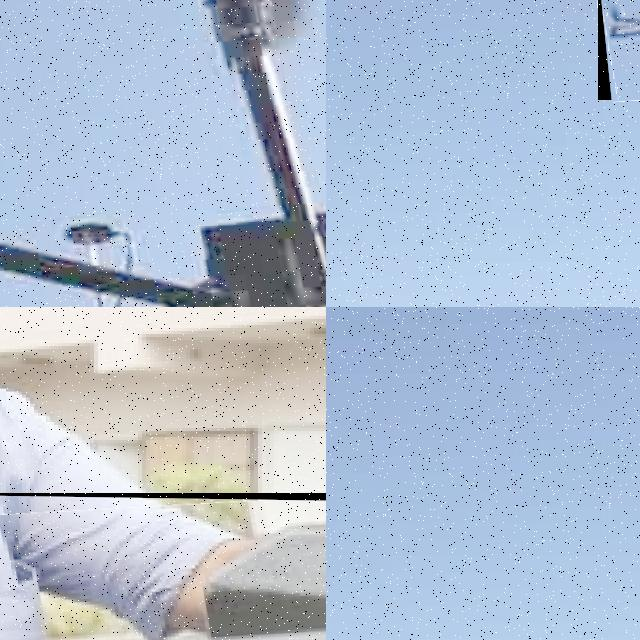0: (0, 0, 326, 307), (598, 0, 640, 100)
drone: (0, 493, 326, 640)
